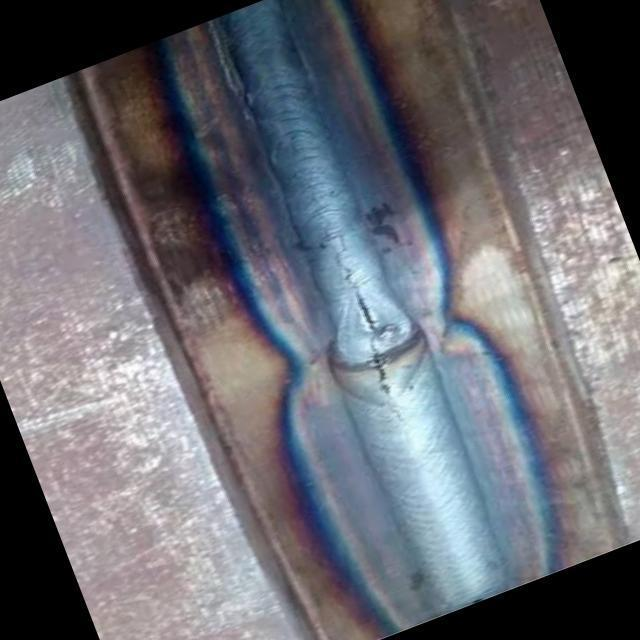defect: (316, 223, 394, 400)
